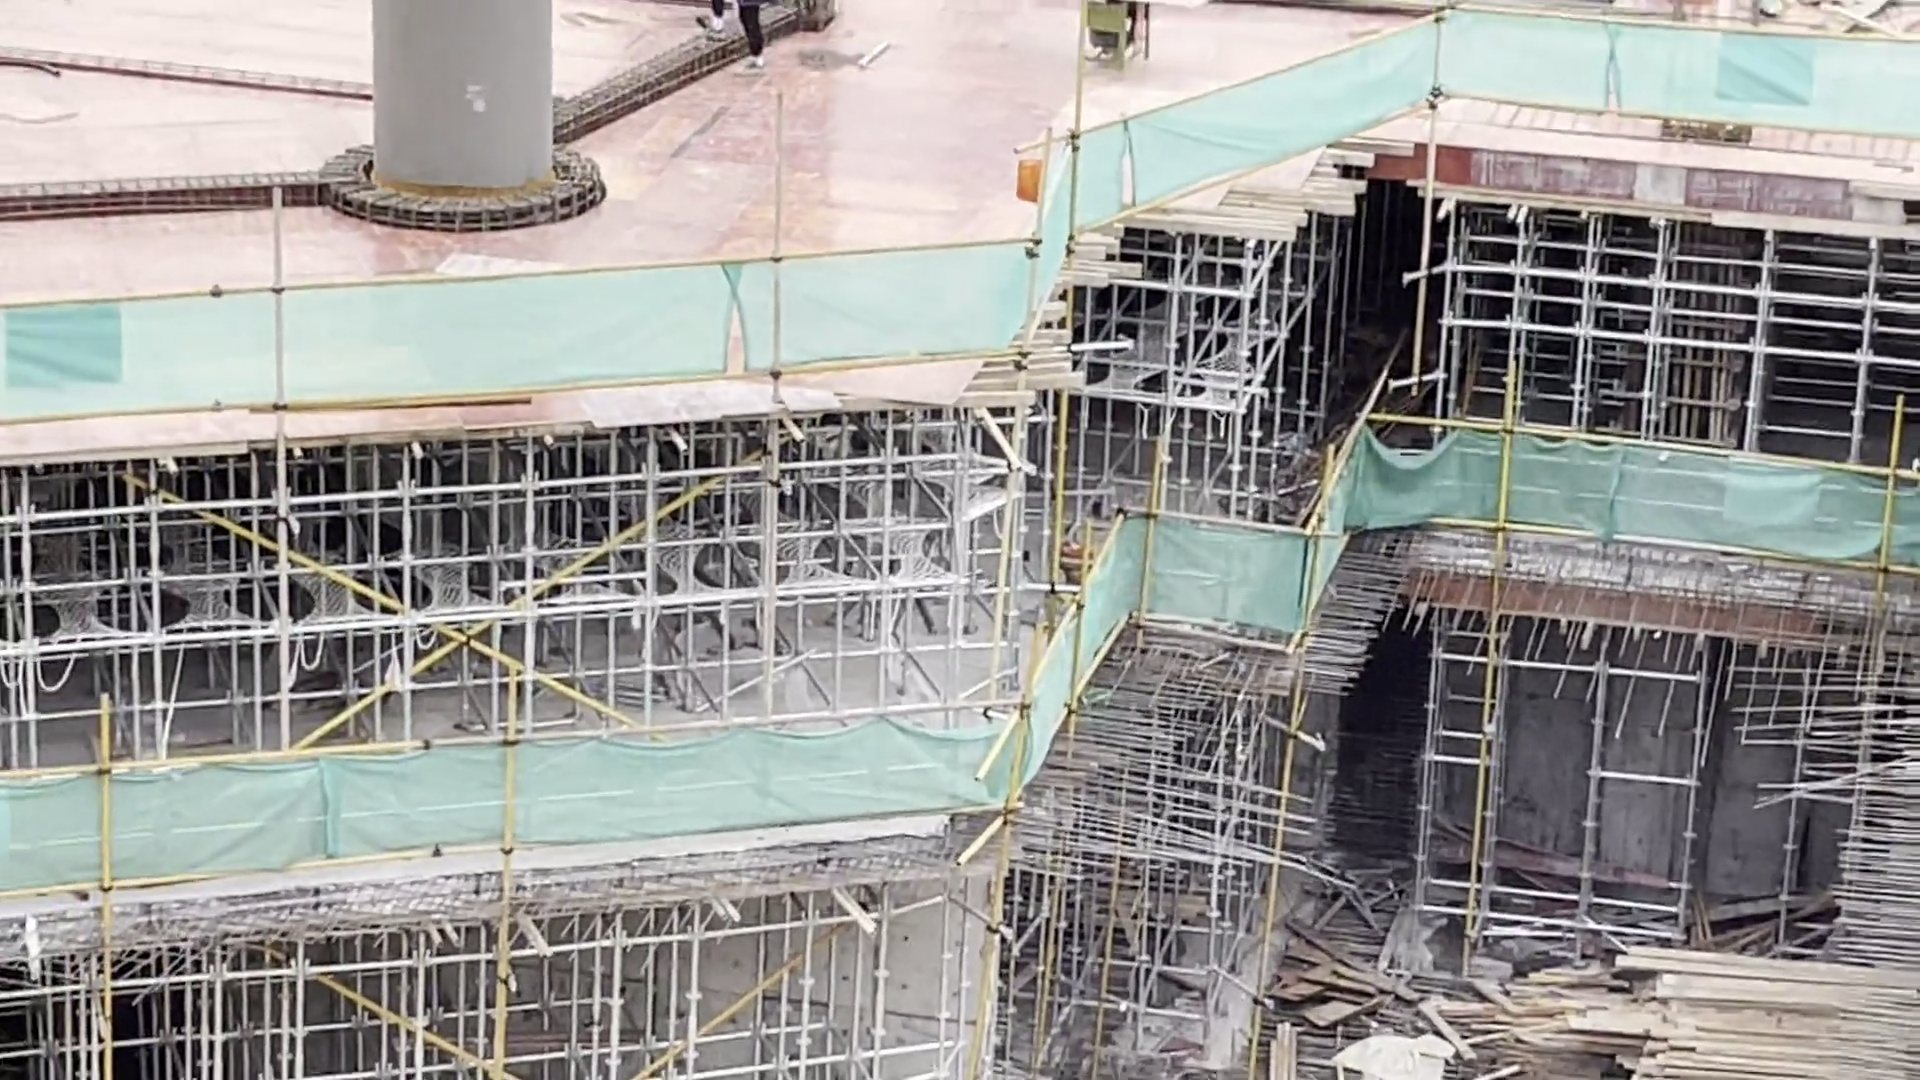wood: (1604, 944, 1917, 1080)
